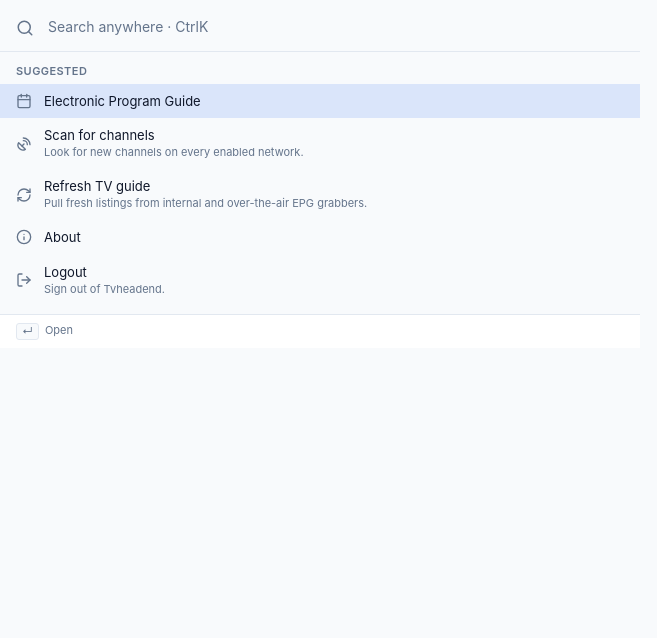
Test: CommandPalette › non-empty query groups by command.section (Actions / Navigation)
Type "e" into the dropdown with class "command-palette__input" at (335, 28), box [46,16,624,39]
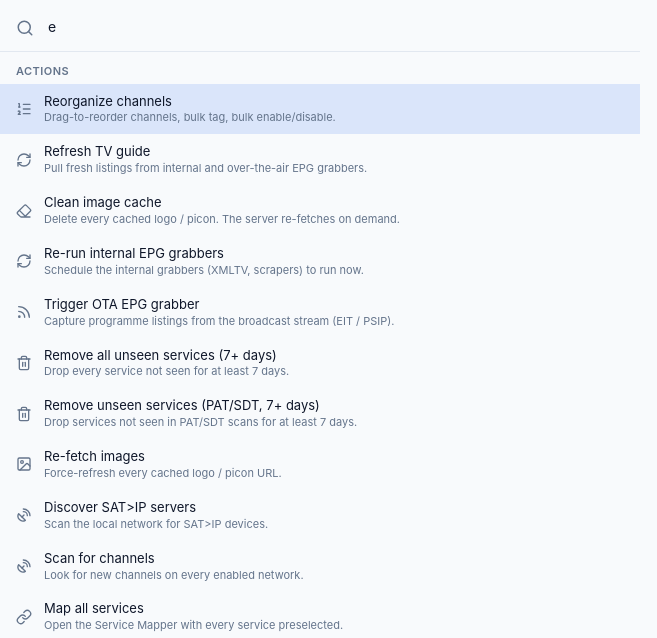
Result: the text with class "command-palette__group-header" no longer shows "Suggested"
